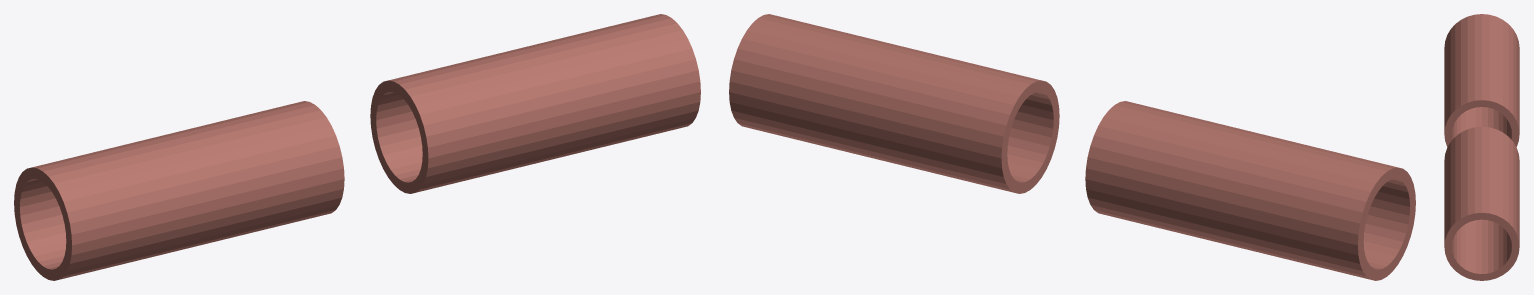
File: dranmar_hollow_tissue_initial.glb
3 renders of one model, left to right at view 1: azimuth 30°, elevation 25°; view 2: azimuth 150°, elevation 25°; view 3: azimuth 270°, elevation 25°, orthographic. The views are drawn at different scales.
Visible parts, largest first — view 1: LeftTissue, RightTissue; view 2: LeftTissue, RightTissue; view 3: RightTissue, LeftTissue.
Boxes of the visible parts, x1=… form: LeftTissue: x1=14, y1=101, x2=344, y2=280; RightTissue: x1=370, y1=14, x2=700, y2=193; LeftTissue: x1=1085, y1=101, x2=1415, y2=280; RightTissue: x1=729, y1=14, x2=1059, y2=193; RightTissue: x1=1444, y1=126, x2=1519, y2=280; LeftTissue: x1=1444, y1=14, x2=1519, y2=146.
Size of the model in its own units: 0.15 by 0.024 by 0.024.
